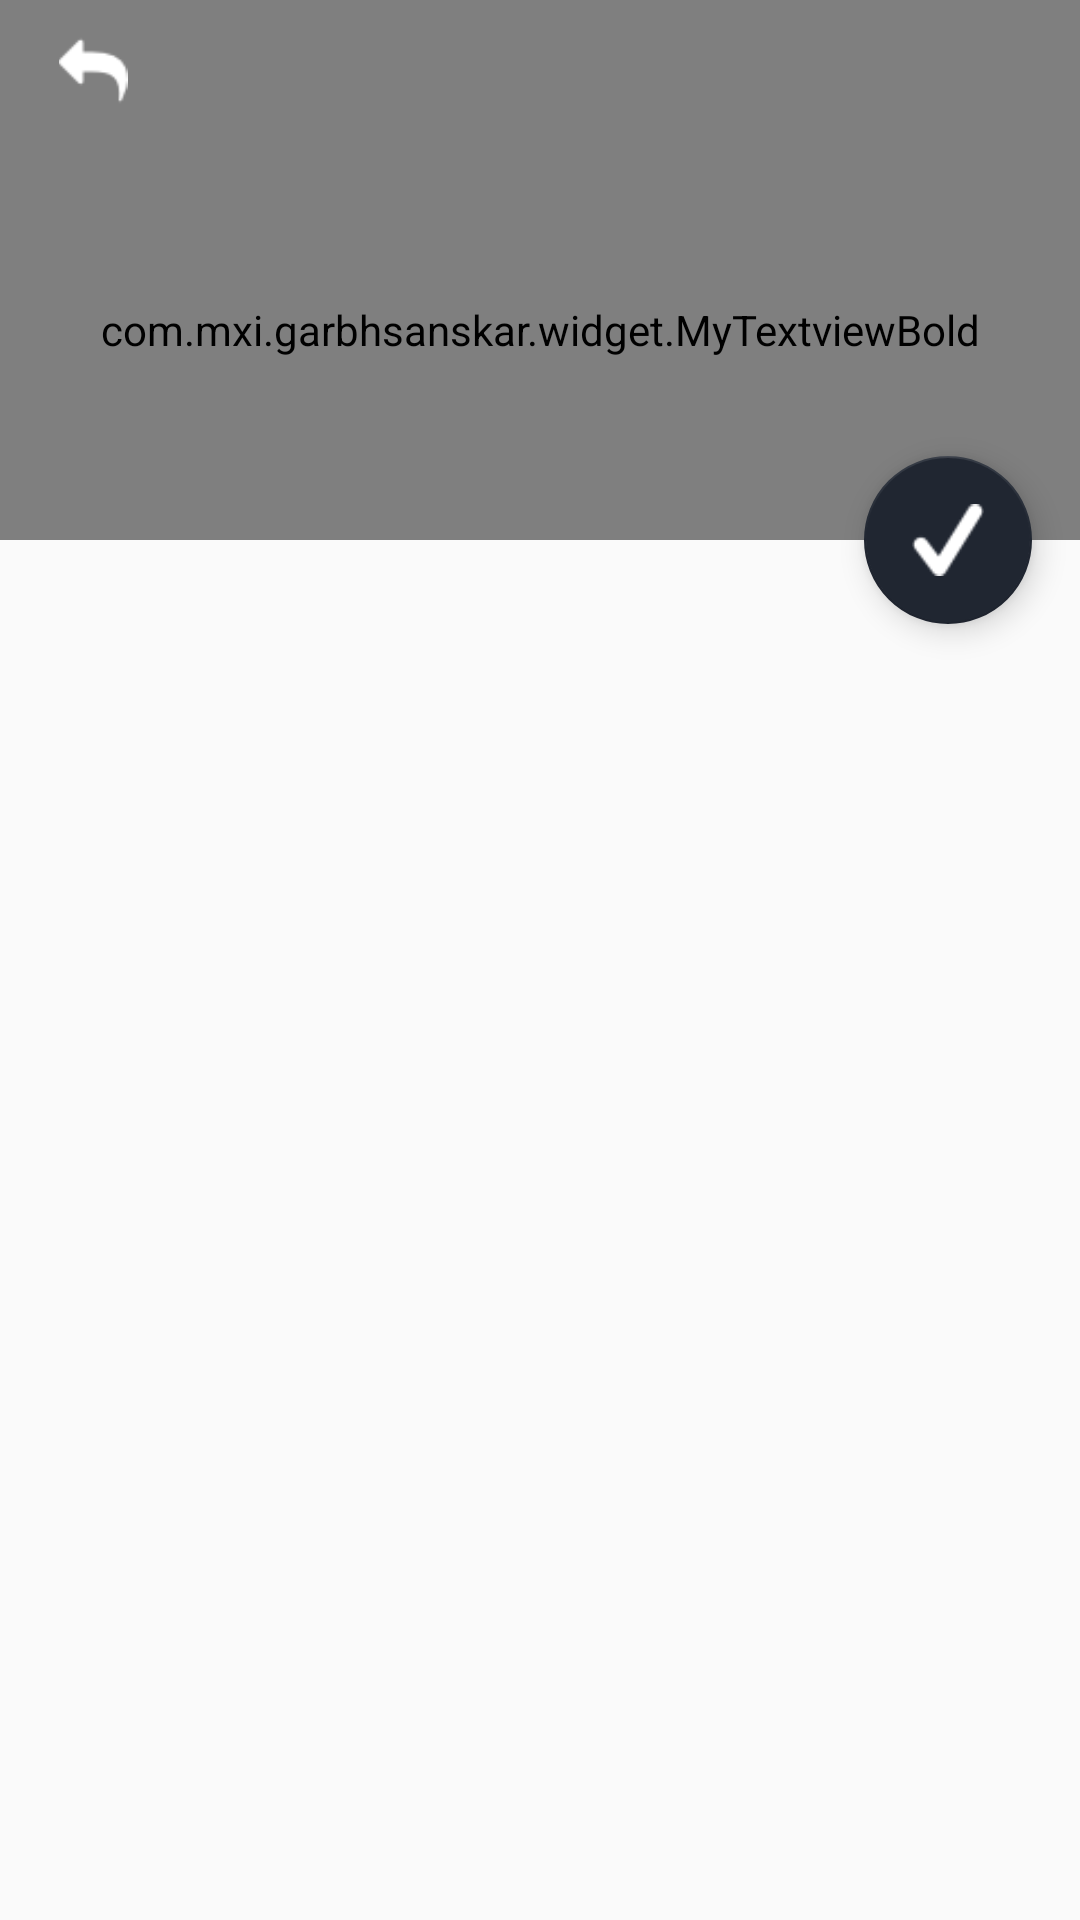

Screen size 1080*1920. Icon name, then its center in pixels as (x,y):
back: (93,70)
correct: (948,540)
